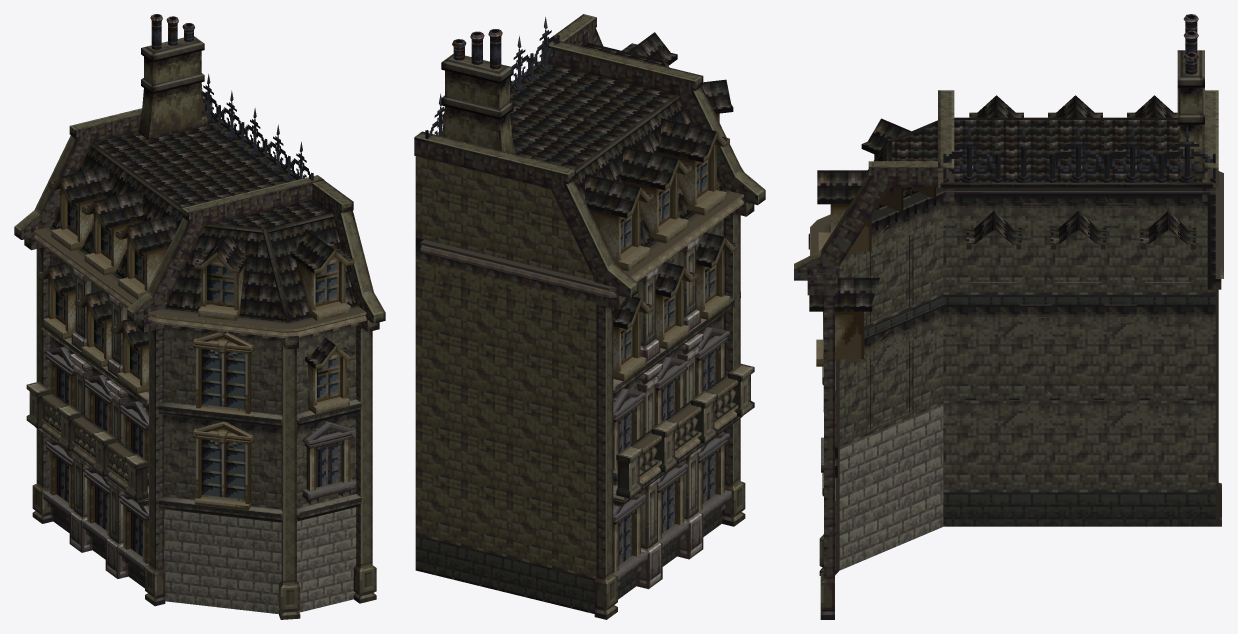
File: EnvBdgMD_City_B_Outdoor_L_A_Arrange_A.FBX
3 renders of one model, left to right at view 1: azimuth 30°, elevation 25°; view 2: azimuth 150°, elevation 25°; view 3: azimuth 270°, elevation 25°, orthographic. The views are drawn at different scales.
Parts seen in each view (by area): view 1: EnvBdgMD_City_B_Outdoor_L_A_Arrange_A; view 2: EnvBdgMD_City_B_Outdoor_L_A_Arrange_A; view 3: EnvBdgMD_City_B_Outdoor_L_A_Arrange_A.
Part boxes in pixels (left/top/right/bottom): EnvBdgMD_City_B_Outdoor_L_A_Arrange_A: left=14, top=14, right=385, bottom=619; EnvBdgMD_City_B_Outdoor_L_A_Arrange_A: left=414, top=14, right=765, bottom=619; EnvBdgMD_City_B_Outdoor_L_A_Arrange_A: left=794, top=14, right=1223, bottom=619.
Bounding box in the file's own units: 481 × 1150 × 789.
Materials: 1 (1 with a texture image).
